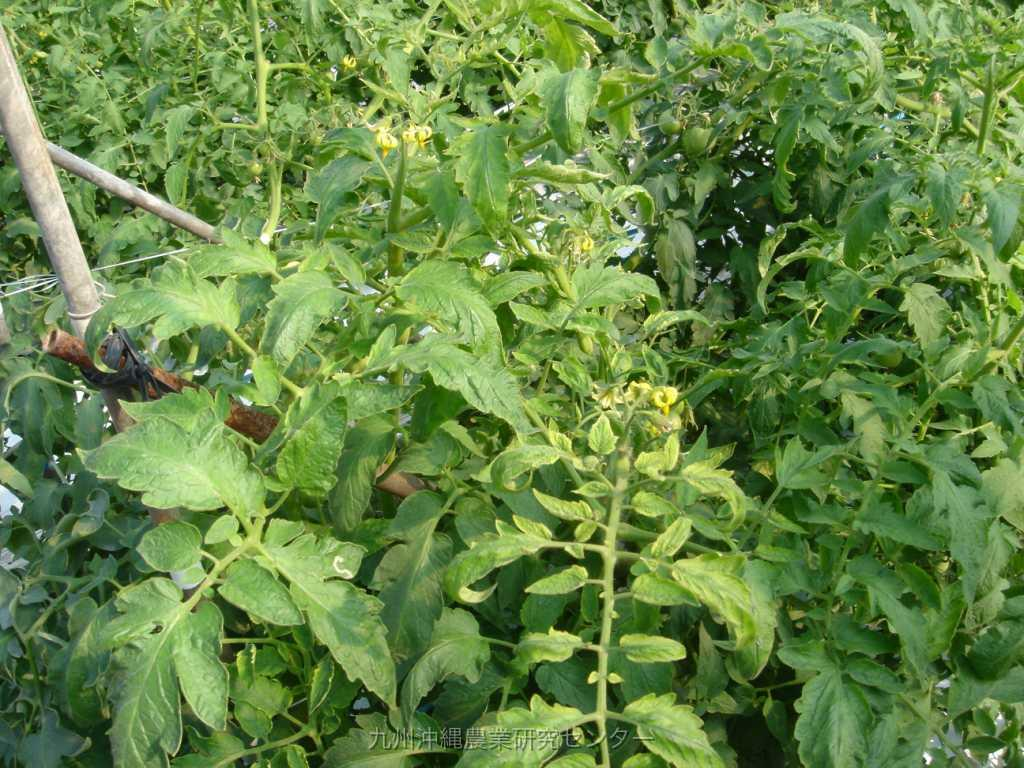Tomato leaf: (62, 560, 226, 768), (262, 526, 409, 716), (105, 404, 279, 525), (385, 340, 555, 444), (62, 263, 253, 338), (390, 261, 525, 359), (669, 558, 780, 665), (446, 119, 527, 252), (444, 509, 548, 605), (629, 680, 739, 768), (460, 698, 580, 768), (146, 230, 300, 281), (685, 452, 758, 536), (566, 258, 668, 314), (619, 565, 706, 623), (509, 622, 592, 678), (522, 559, 597, 608), (613, 633, 696, 668), (584, 411, 632, 462)
